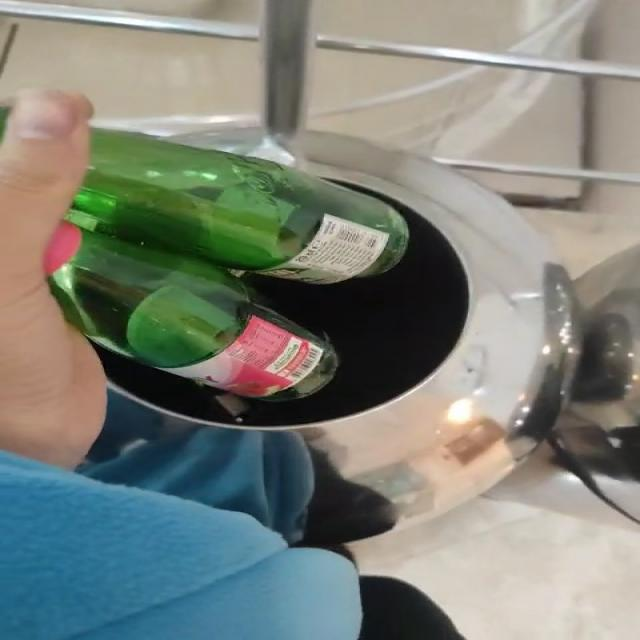glass: (49, 129, 409, 400)
